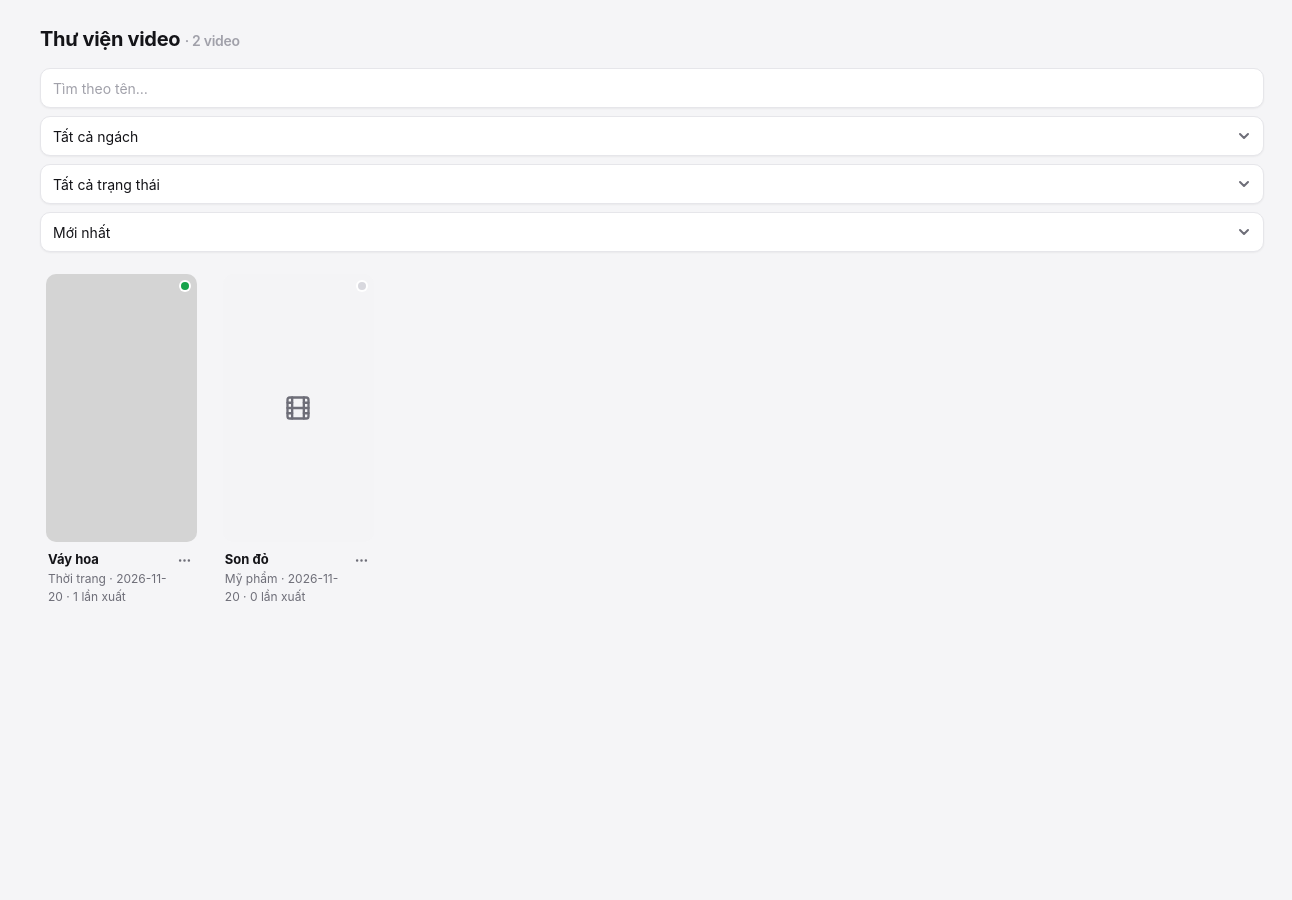
Test: grid shows every project with its thumbnail and opens one on click
The image size is (1292, 900).
Expected: the text "Váy hoa" is shown, [48,551,99,567]
Expected: the text "· 2 video" is shown, [185,32,240,49]
Click the text "Son đỏ" at (247, 559), box [225,551,269,567]
(page scrolled)
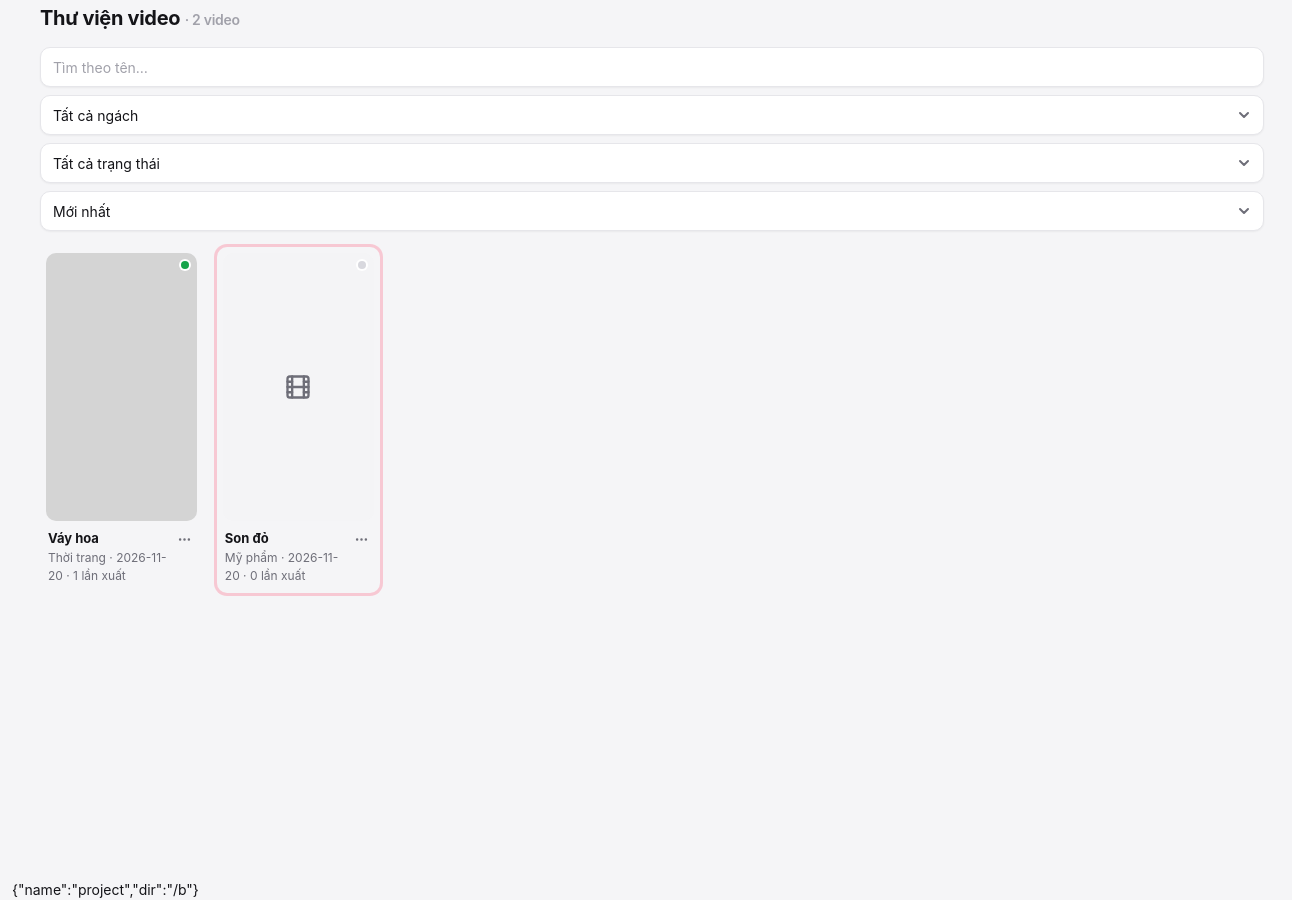
Expected: the text with test id "route" shows "\"/b\"", [12,881,199,898]
